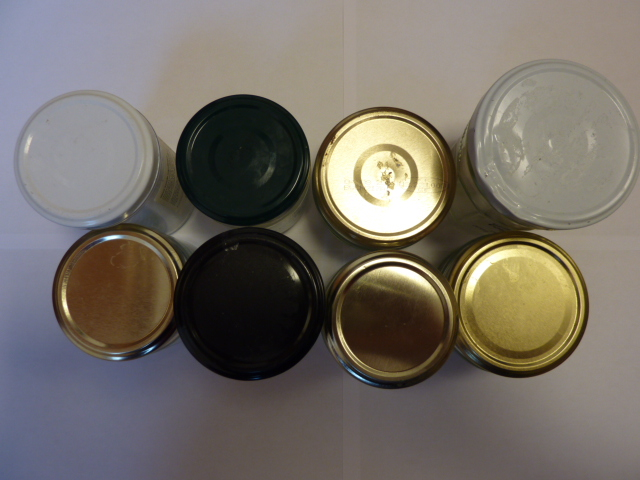intact: (449, 234, 590, 379), (326, 253, 454, 386)
